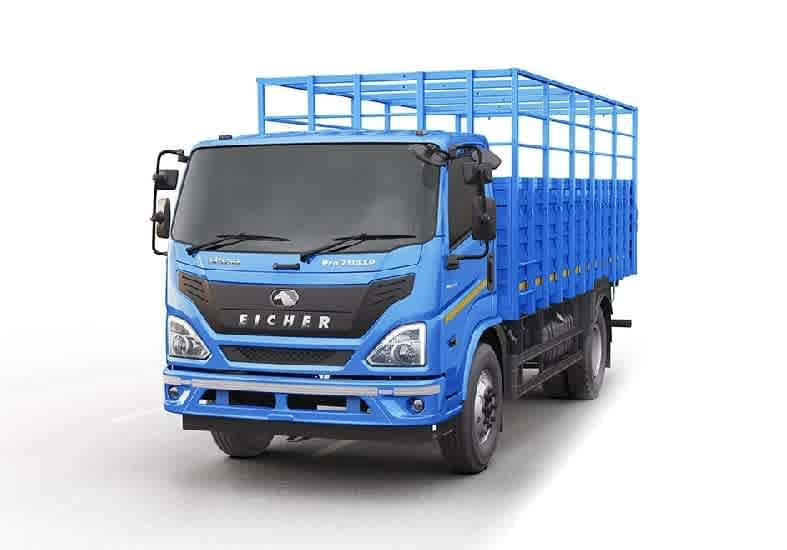truck: (149, 67, 639, 476)
